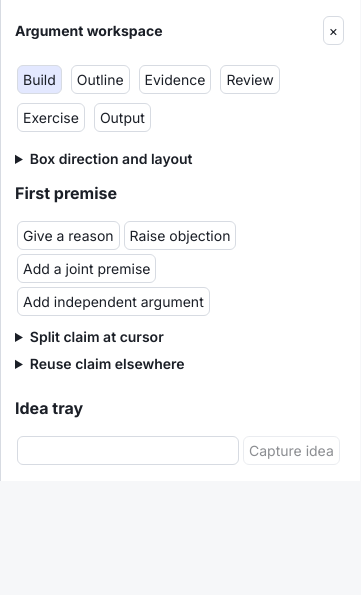
Test: toggles focus and assumption analysis without changing document contents
Later steps or results of the test are not shown.
Click the button "Review" at (250, 80), box [220,65,280,94]
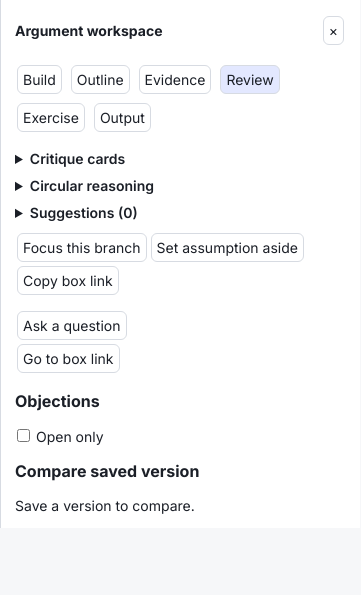
Click the button "Focus this branch" at (82, 248), box [17,233,146,262]
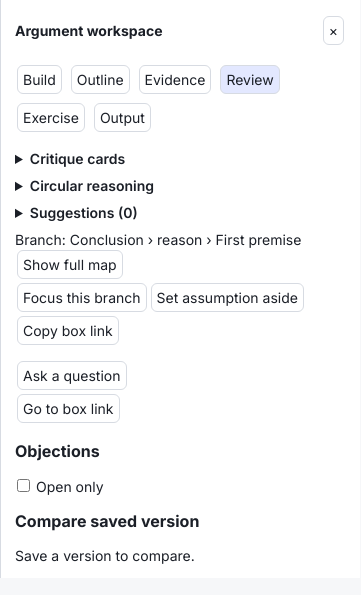
Now the button "Show full map" is shown
Click the button "Show full map" at (70, 264), box [17,250,123,279]
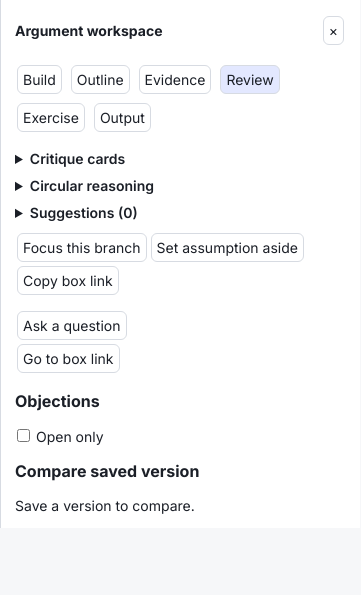
Click the button "Set assumption aside" at (227, 248), box [150,233,304,262]
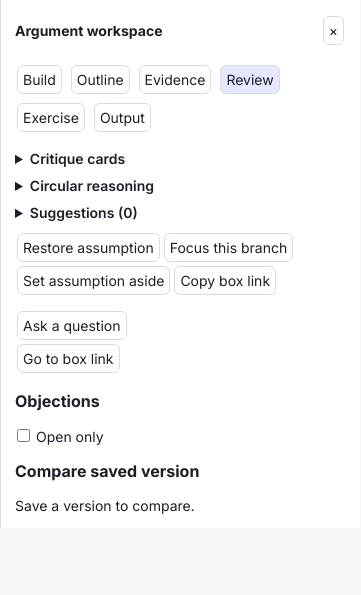
Now the button "Restore assumption" is shown, box [17,233,160,262]
